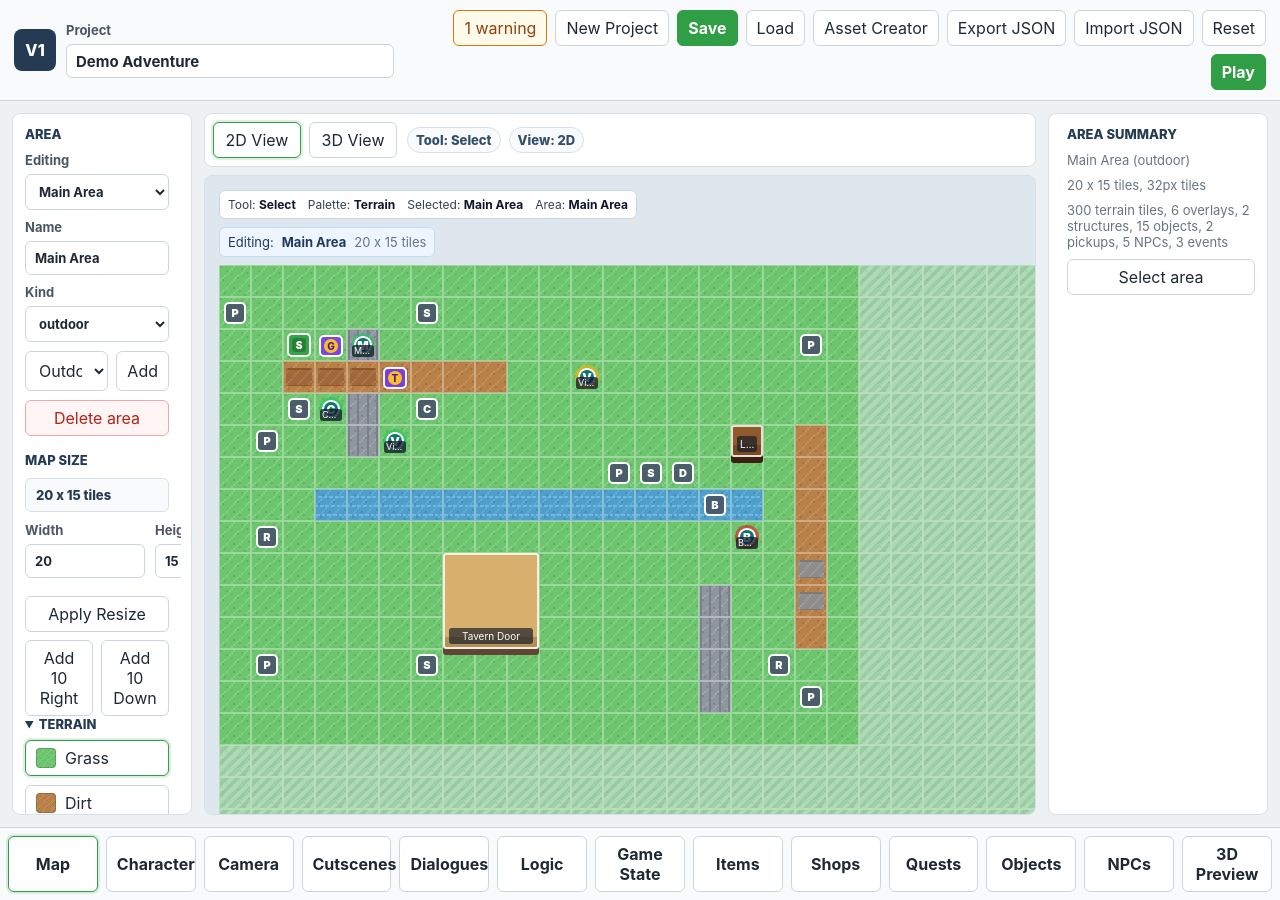
Test: editor smoke tests › shows project validation issues from the top bar
This screenshot has width=1280, height=900.
Expected: the field showing "Demo Adventure" is shown, [66, 44, 394, 78]
Click the button "1 warning".
click(500, 28)  # box [453, 10, 547, 46]
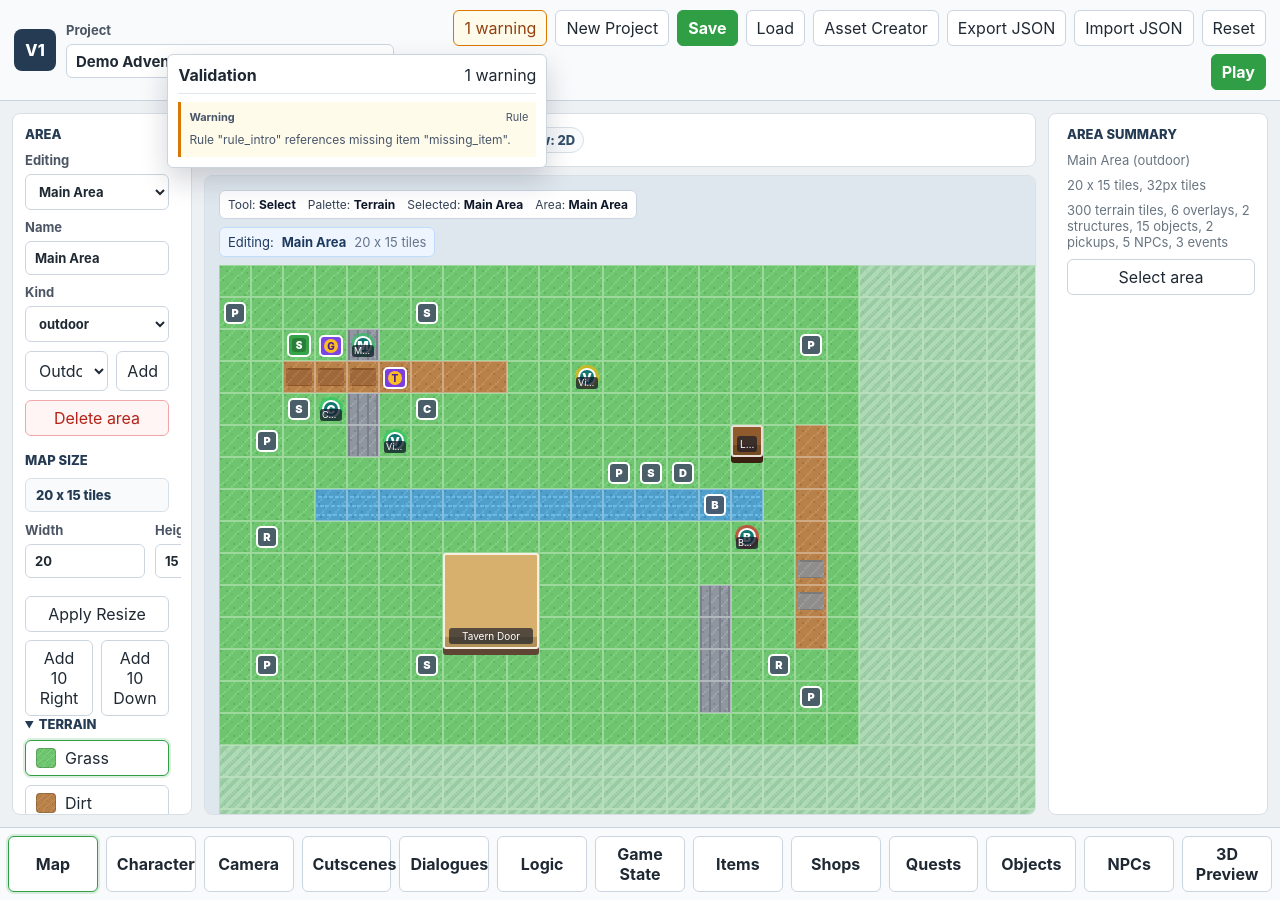
Now the element named "Project validation issues" shows "missing item \"missing_item\"", box [189, 132, 511, 147]
